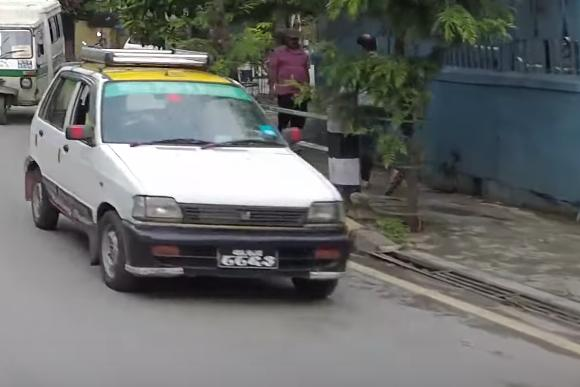taxi: (24, 34, 353, 301)
